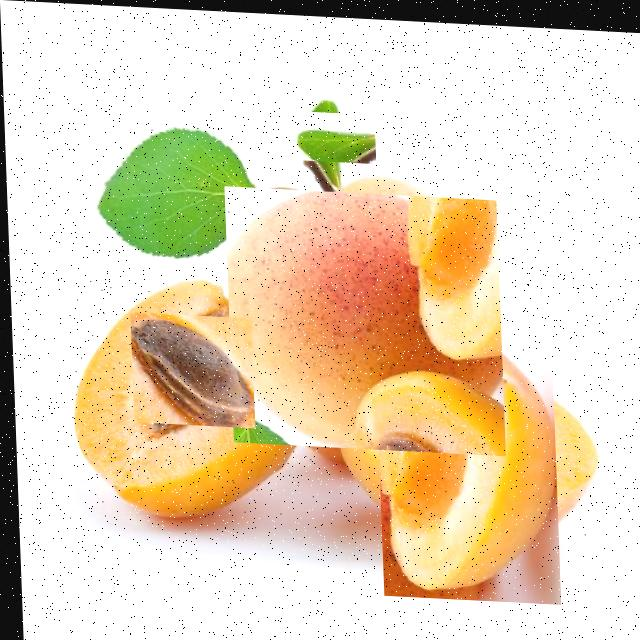Apricot: (226, 190, 499, 444), (58, 274, 321, 528), (346, 335, 583, 575)
Leaf: (79, 119, 253, 256), (299, 99, 367, 169)
seed: (129, 313, 250, 424)
